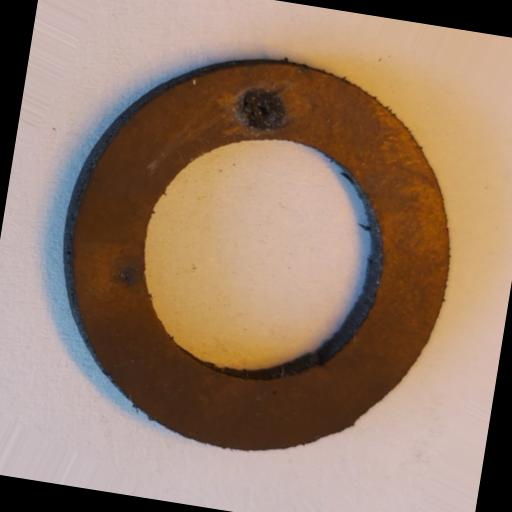defect: (230, 80, 292, 134), (113, 263, 141, 291)
